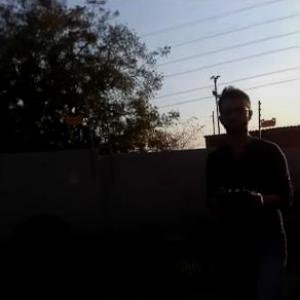follow: (202, 81, 298, 299)
